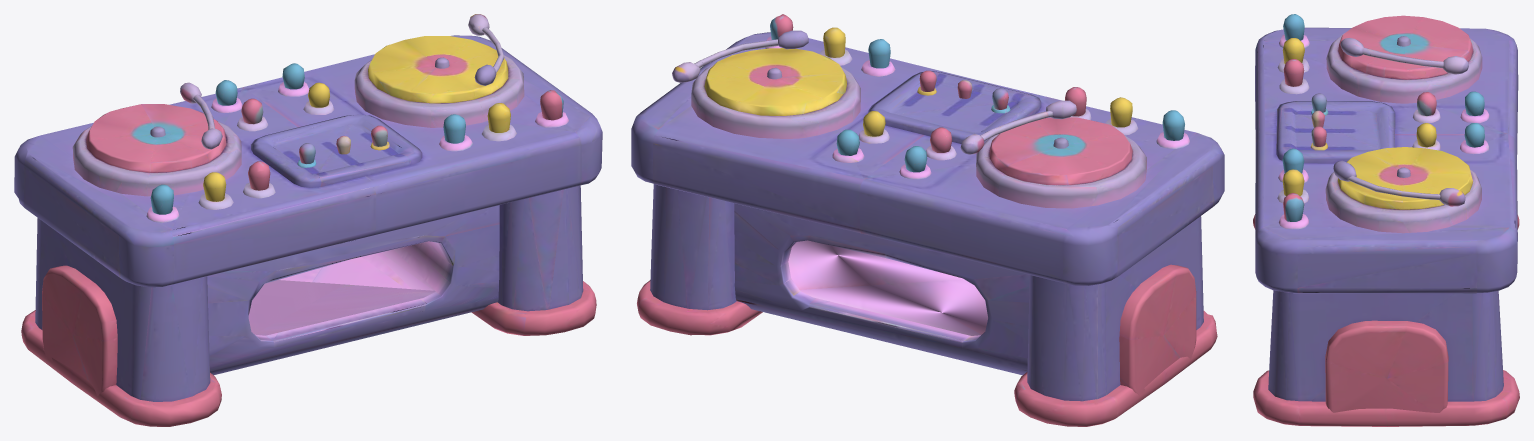
Rendered from dj-stand.glb.
3 renders of one model, left to right at view 1: azimuth 30°, elevation 25°; view 2: azimuth 150°, elevation 25°; view 3: azimuth 270°, elevation 25°, orthographic. The views are drawn at different scales.
Parts seen in each view (by area): view 1: geometry_0; view 2: geometry_0; view 3: geometry_0.
Boxes of the visible parts, x1=… form: geometry_0: x1=14, y1=14, x2=602, y2=426; geometry_0: x1=631, y1=14, x2=1224, y2=426; geometry_0: x1=1253, y1=14, x2=1519, y2=426.
Bounding box in the file's own units: 1 × 0.4866 × 0.5166.
Materials: 1 (1 with a texture image).
